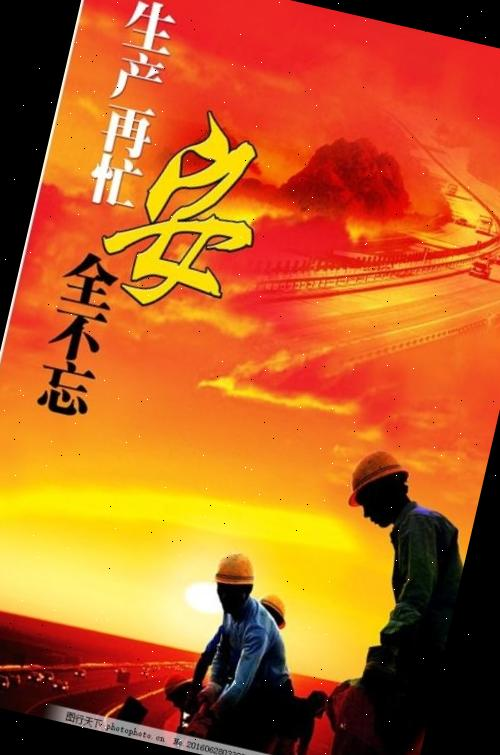helmet: (340, 443, 416, 523), (212, 545, 260, 594), (254, 588, 290, 620)
no_wear: (202, 604, 284, 700)
